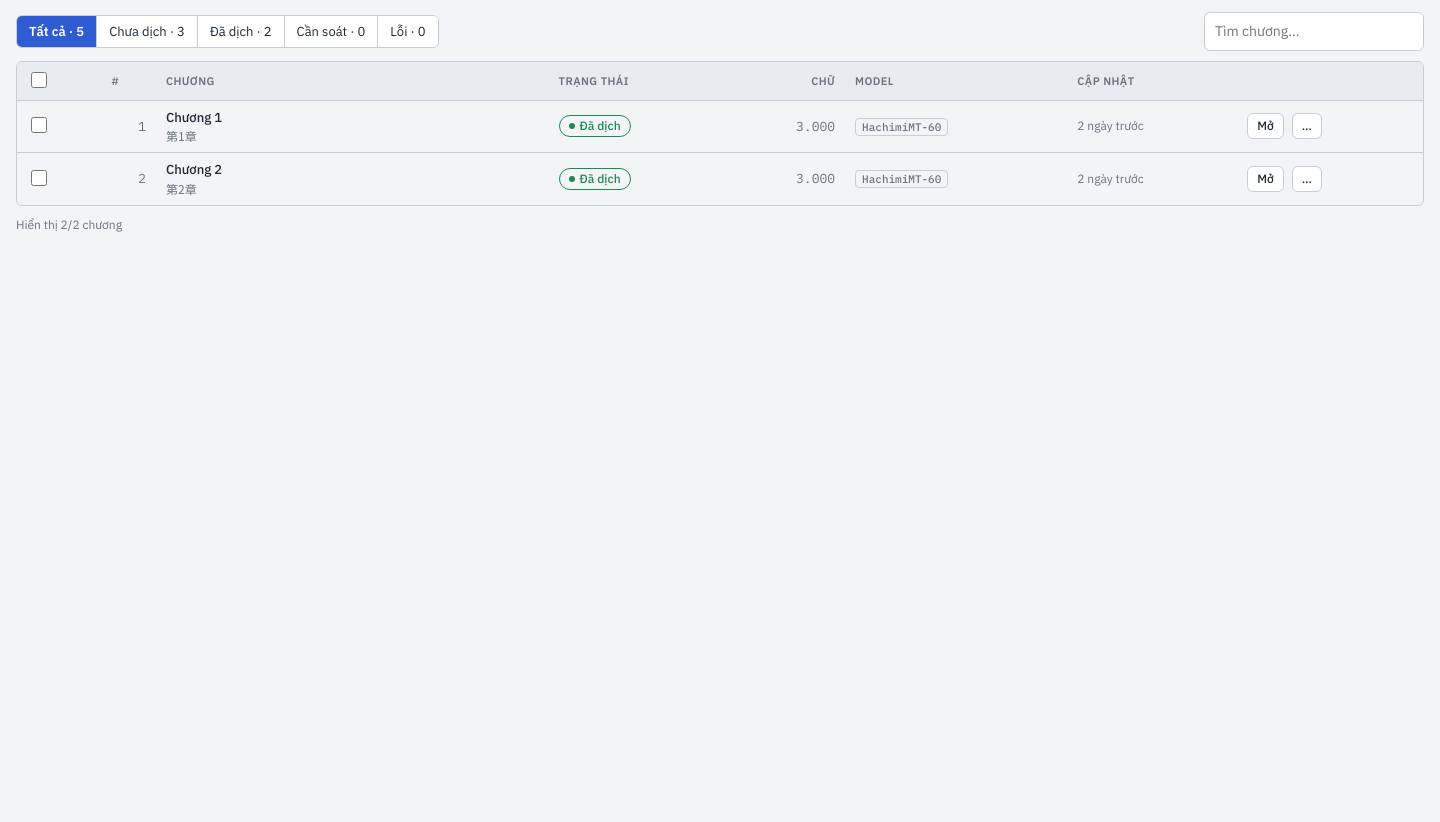
it: soát bằng DeepSeek dưới 10 chương thì gửi ngay, không ước tính (BR-3.2a)
The image size is (1440, 822).
Click the checkbox named "Chọn chương 1" at (39, 125), box [31,117,47,133]
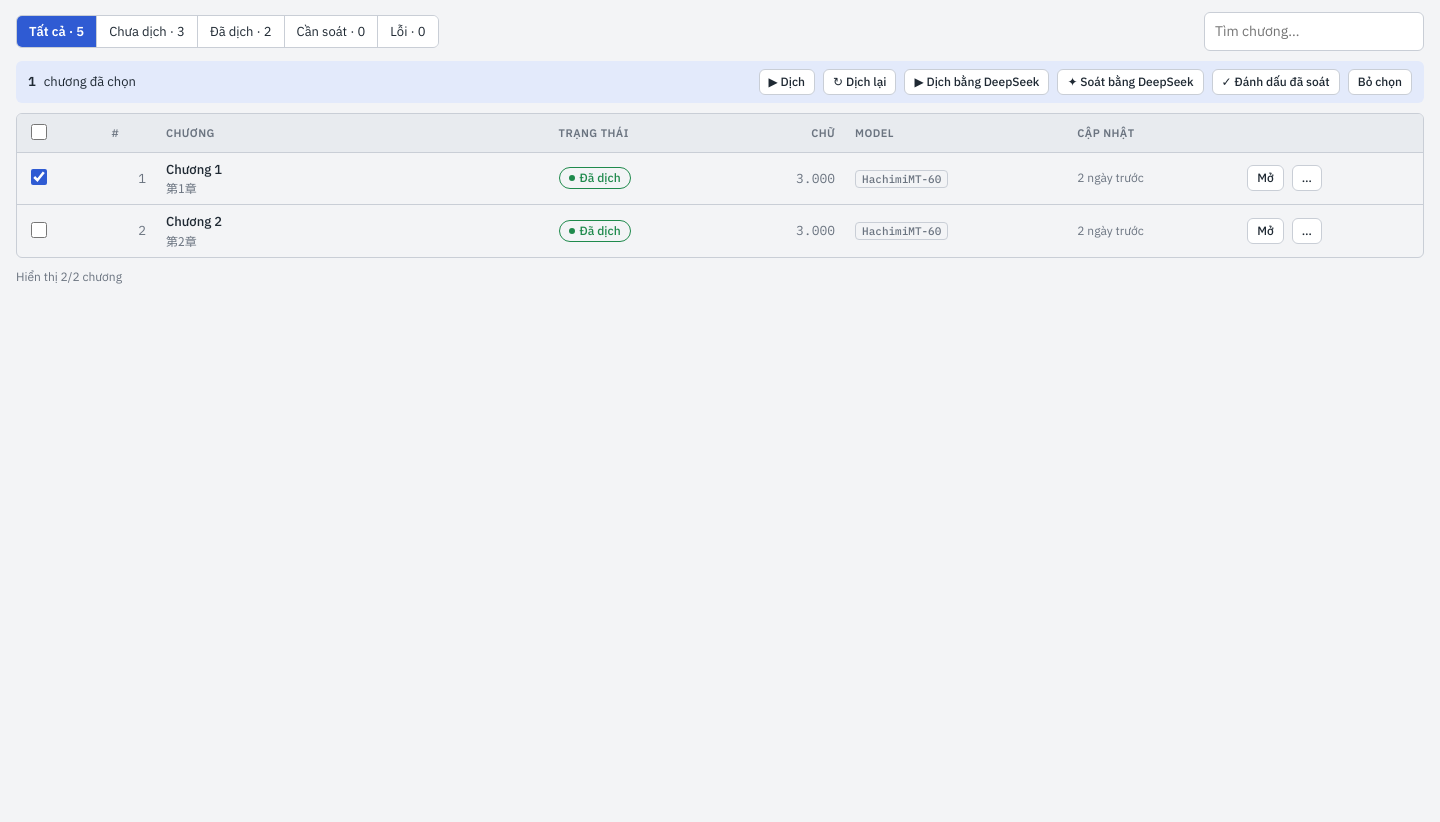
Click the checkbox named "Chọn chương 2" at (39, 230), box [31,222,47,238]
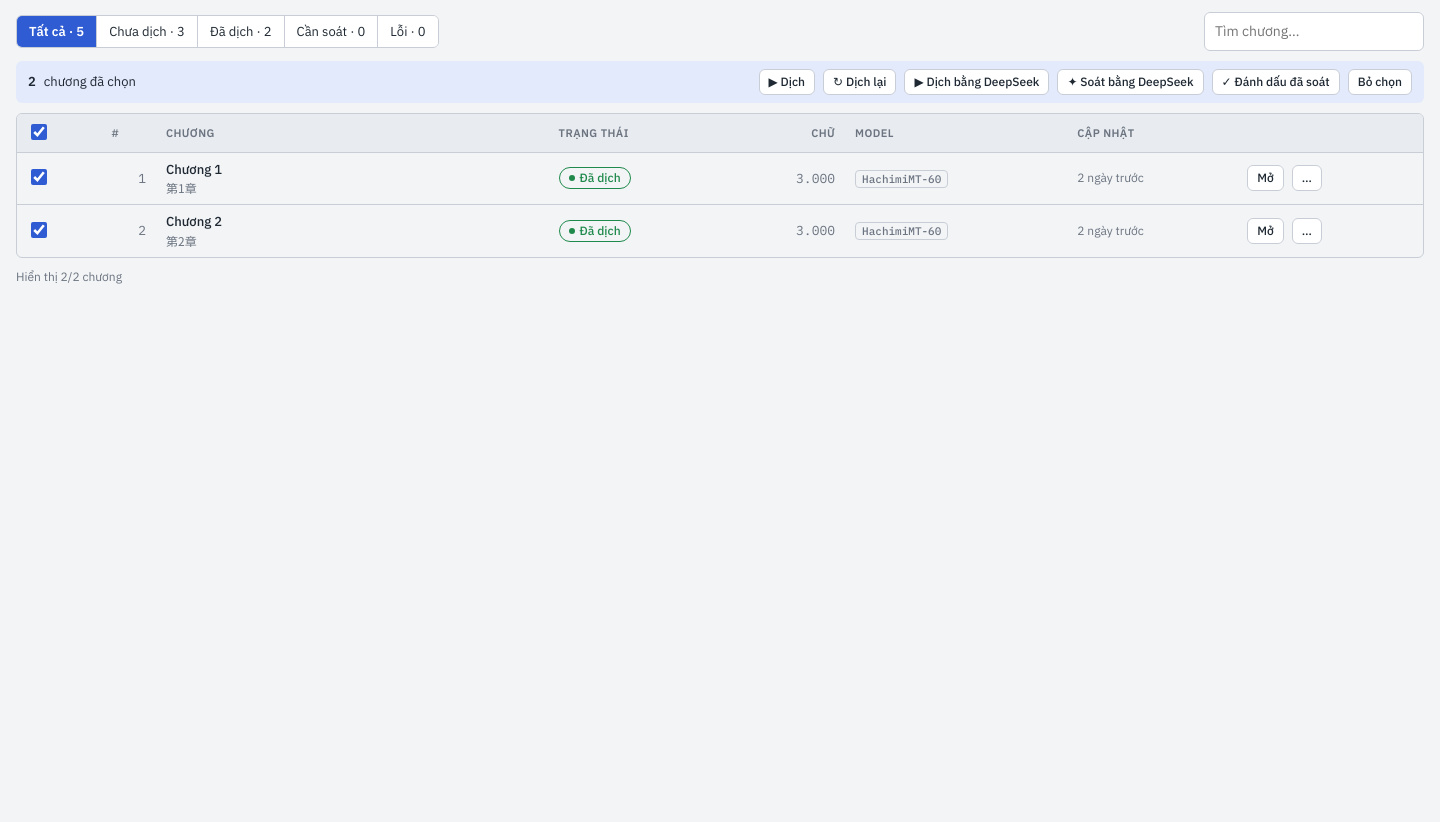
Click the button "✦ Soát bằng DeepSeek" at (1130, 82), box [1057,69,1204,95]
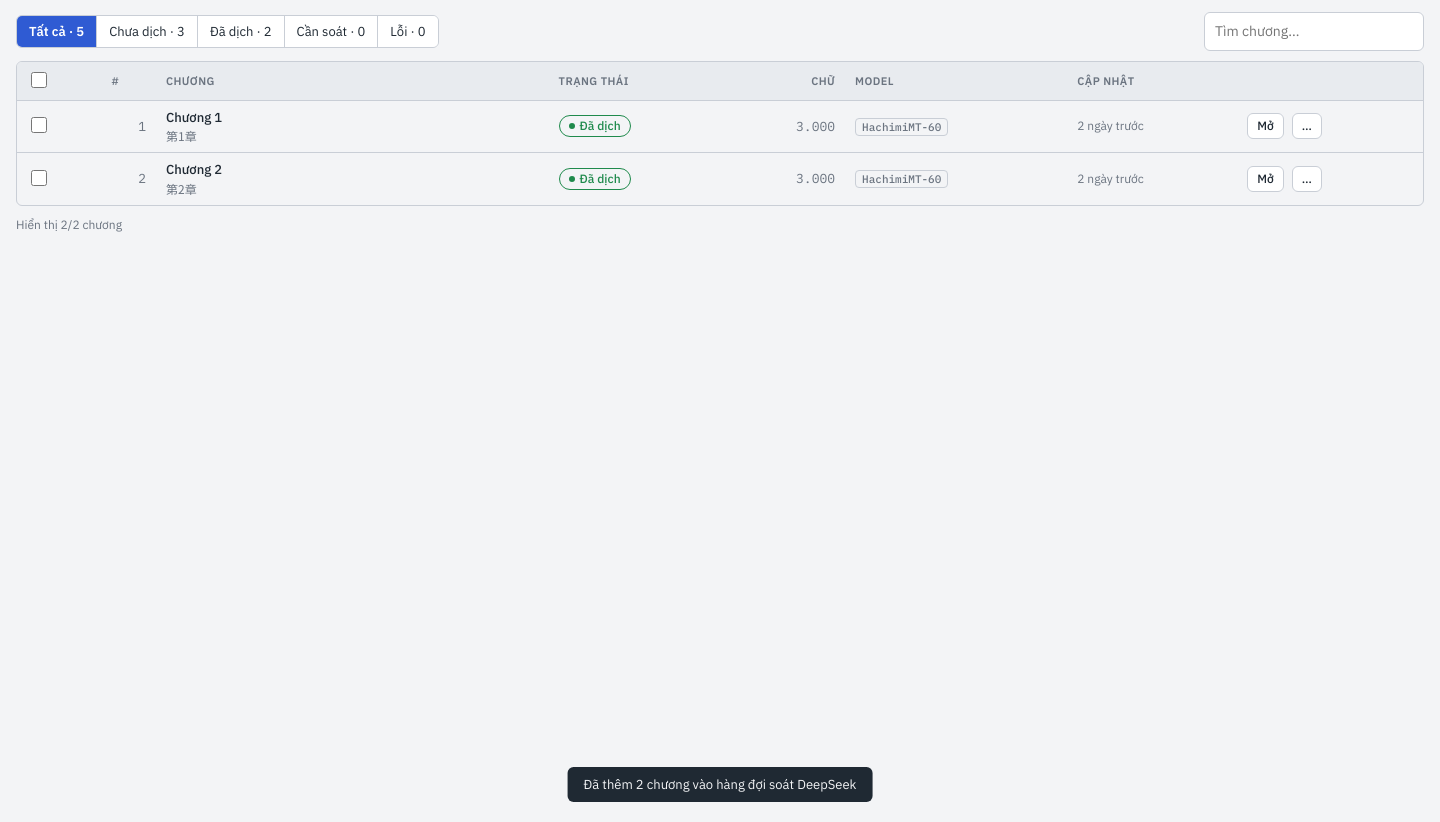
Expected: the text "Đã thêm 2 chương vào hàng đợi soát DeepSeek" is shown, [584,774,856,794]
